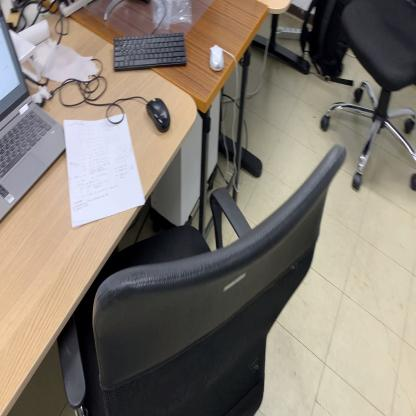chair: (60, 140, 348, 416), (320, 0, 414, 194)
